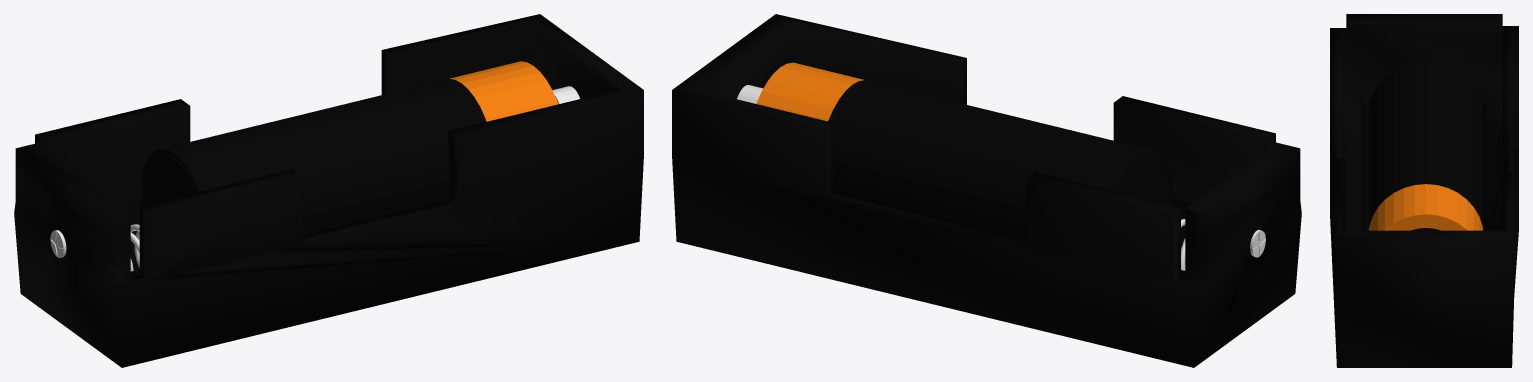
Rendered from Buttery15Volt.fbx.
3 views of the same model, side by side, from view 1: azimuth 30°, elevation 25°; view 2: azimuth 150°, elevation 25°; view 3: azimuth 270°, elevation 25° (orthographic). The views are drawn at different scales.
Parts seen in each view (by area): view 1: Battery, buttery.001, Cylinder; view 2: Battery, buttery.001, Cylinder; view 3: Battery, buttery.001, Cylinder.
Boxes of the visible parts, left/top/right/bottom form: Battery: left=14, top=14, right=643, bottom=367; buttery.001: left=141, top=61, right=558, bottom=229; Cylinder: left=123, top=194, right=448, bottom=277; Battery: left=672, top=14, right=1301, bottom=367; buttery.001: left=756, top=62, right=1173, bottom=231; Cylinder: left=834, top=185, right=1193, bottom=277; Battery: left=1330, top=14, right=1518, bottom=367; buttery.001: left=1368, top=62, right=1483, bottom=230; Cylinder: left=1361, top=89, right=1486, bottom=230.
Size of the model in its own units: 5.03 by 1.36 by 1.78.
